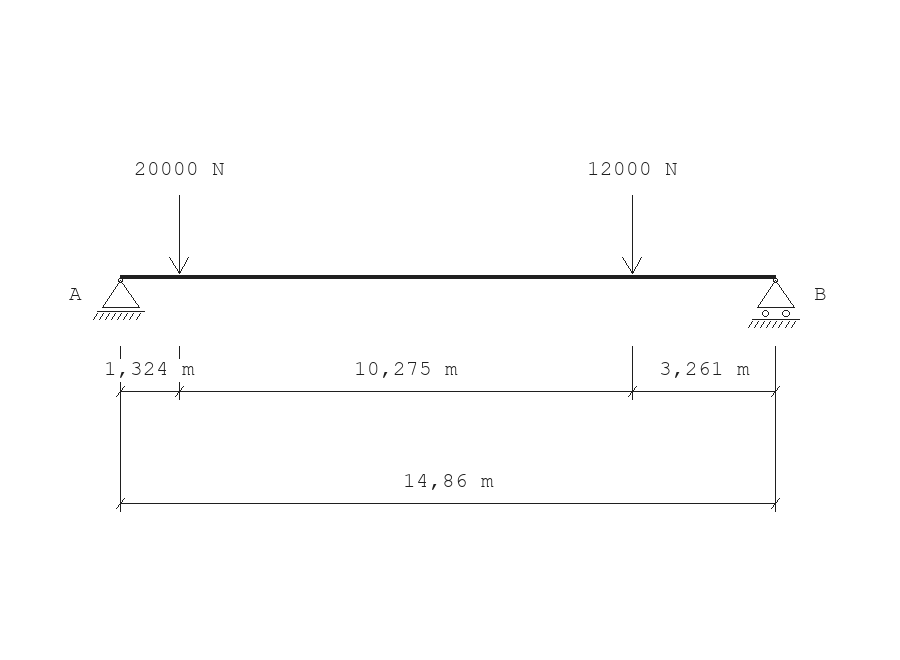pin_support: (93, 278, 145, 320)
point_load: (169, 195, 189, 274), (622, 195, 642, 274)
roller_support: (748, 278, 800, 328)
